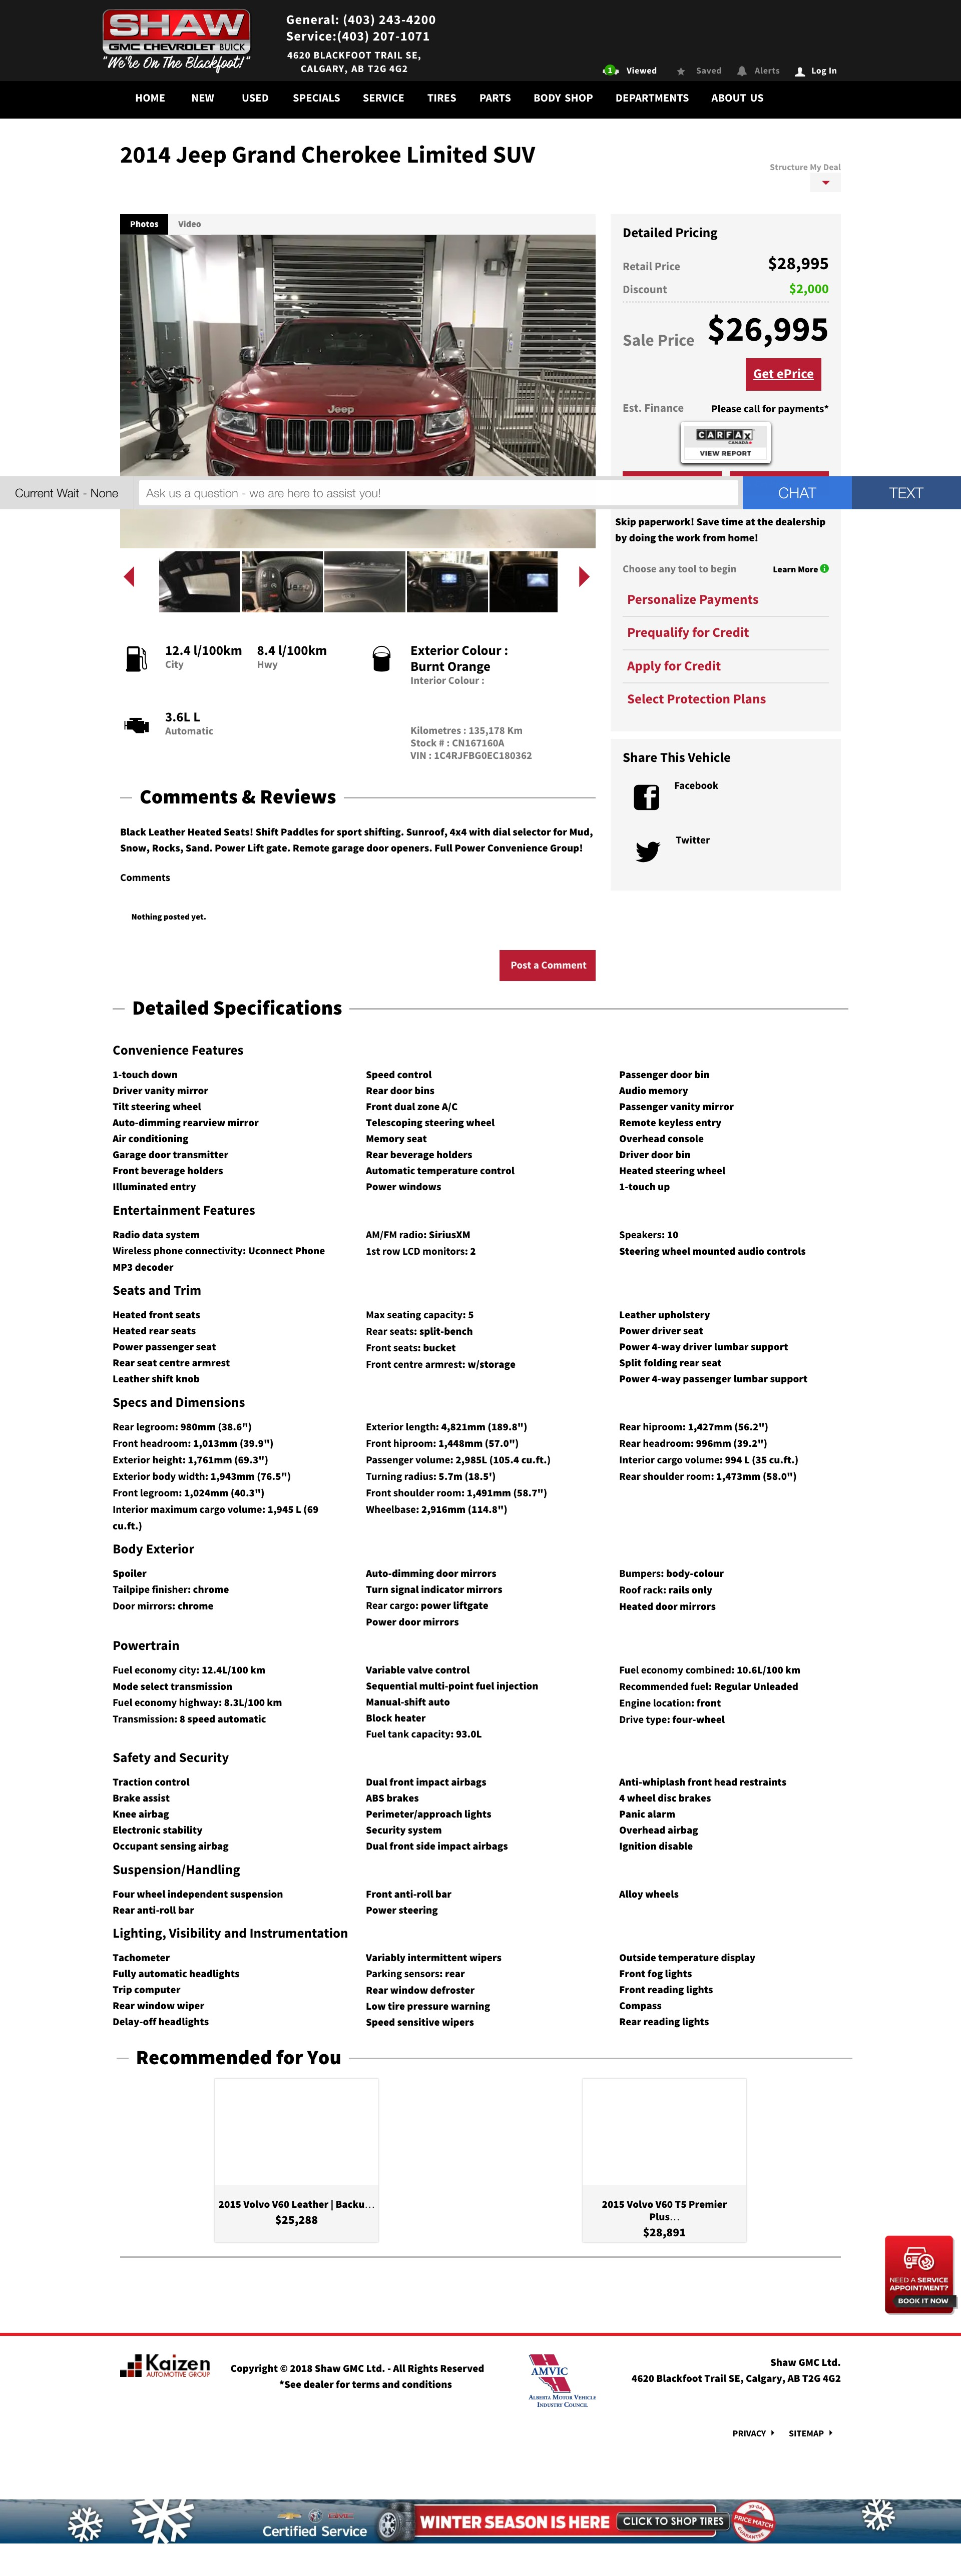car: (580, 567, 590, 588)
